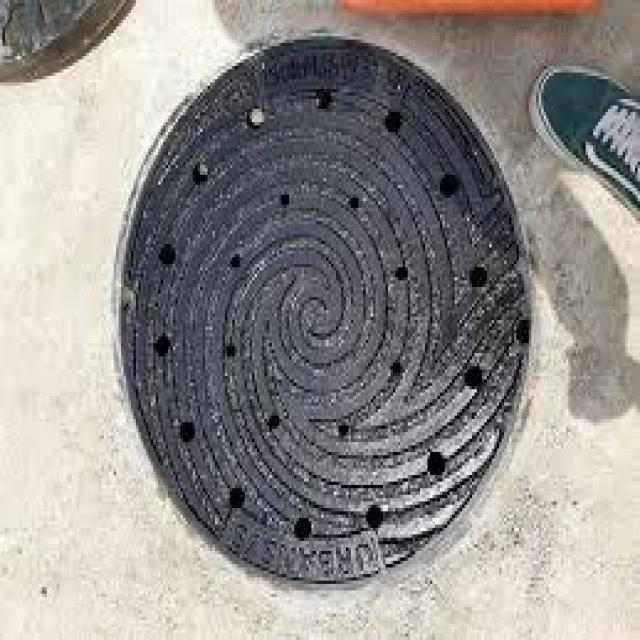manhole: (121, 36, 529, 581)
